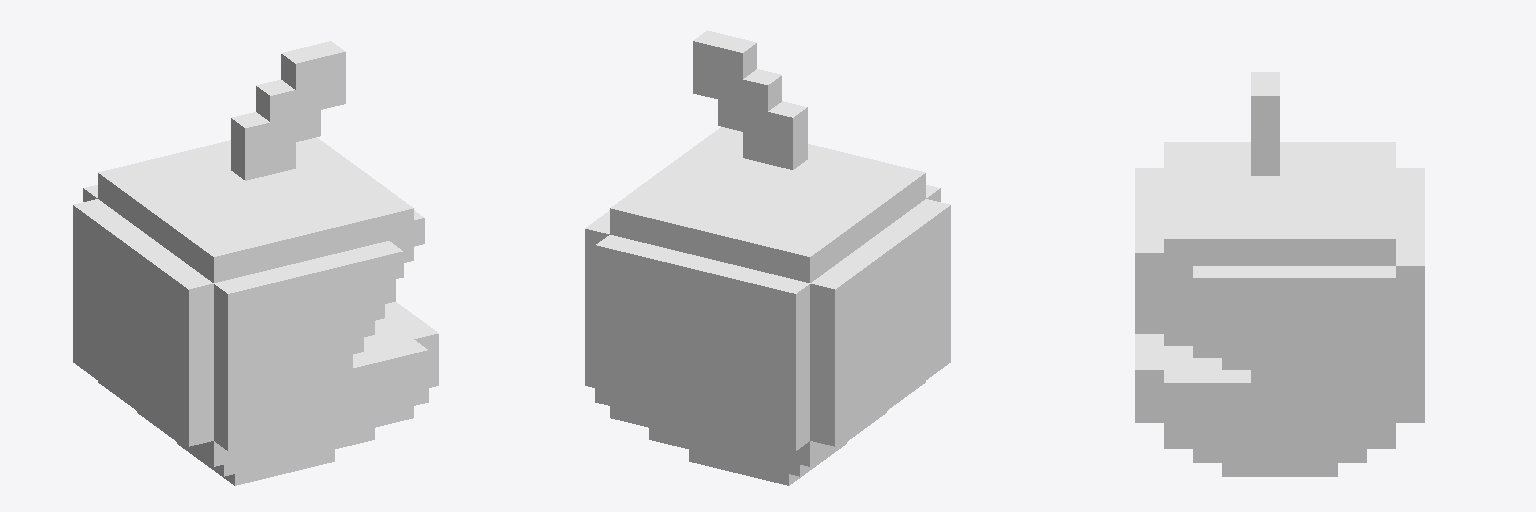
File: blood_apple.obj
3 renders of one model, left to right at view 1: azimuth 30°, elevation 25°; view 2: azimuth 150°, elevation 25°; view 3: azimuth 270°, elevation 25°, orthographic.
Parts seen in each view (by area): view 1: blood_apple; view 2: blood_apple; view 3: blood_apple.
Part boxes in pixels (x1,y1,x2,y2): blood_apple: (73, 41, 438, 485); blood_apple: (585, 30, 950, 485); blood_apple: (1135, 72, 1424, 476).
Size of the model in its own units: 10 by 15 by 10.